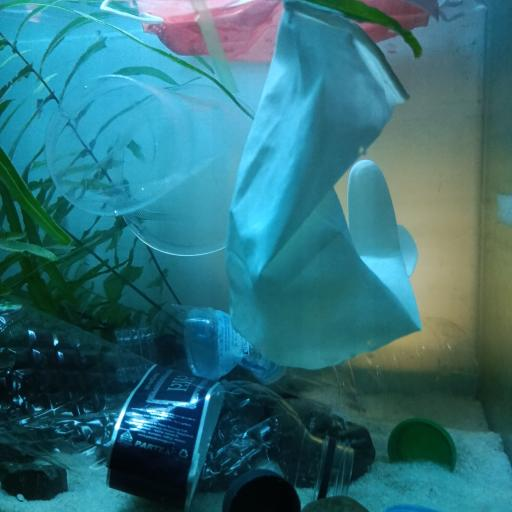bottle_cap: (219, 466, 302, 512), (388, 420, 458, 469)
glove: (226, 0, 423, 373)
mask: (125, 1, 451, 62)
plastic_bottle: (0, 294, 351, 504), (117, 298, 480, 419)
plastic_cup: (45, 72, 267, 257)
